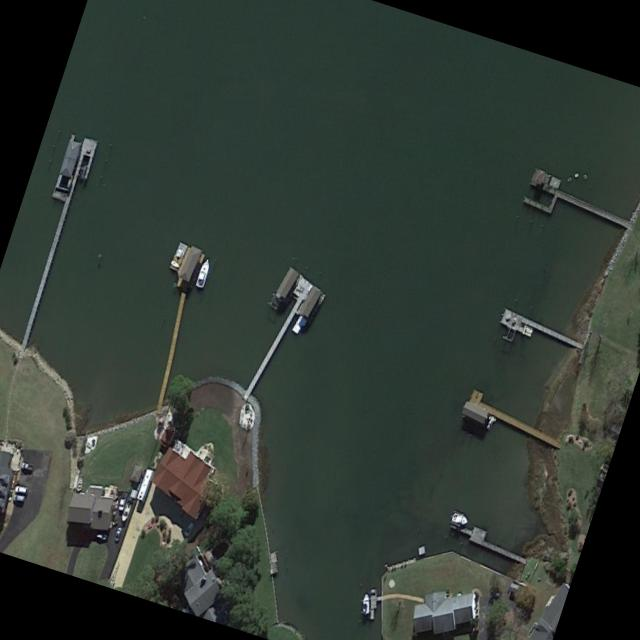ship: (194, 256, 215, 290), (118, 501, 134, 523), (451, 510, 470, 526), (361, 593, 370, 616), (88, 435, 99, 453), (74, 476, 85, 493)
small-vehicle: (183, 519, 198, 538), (117, 492, 128, 511), (94, 529, 109, 542), (20, 460, 35, 472), (113, 526, 124, 542), (13, 484, 30, 493), (12, 494, 27, 502)
